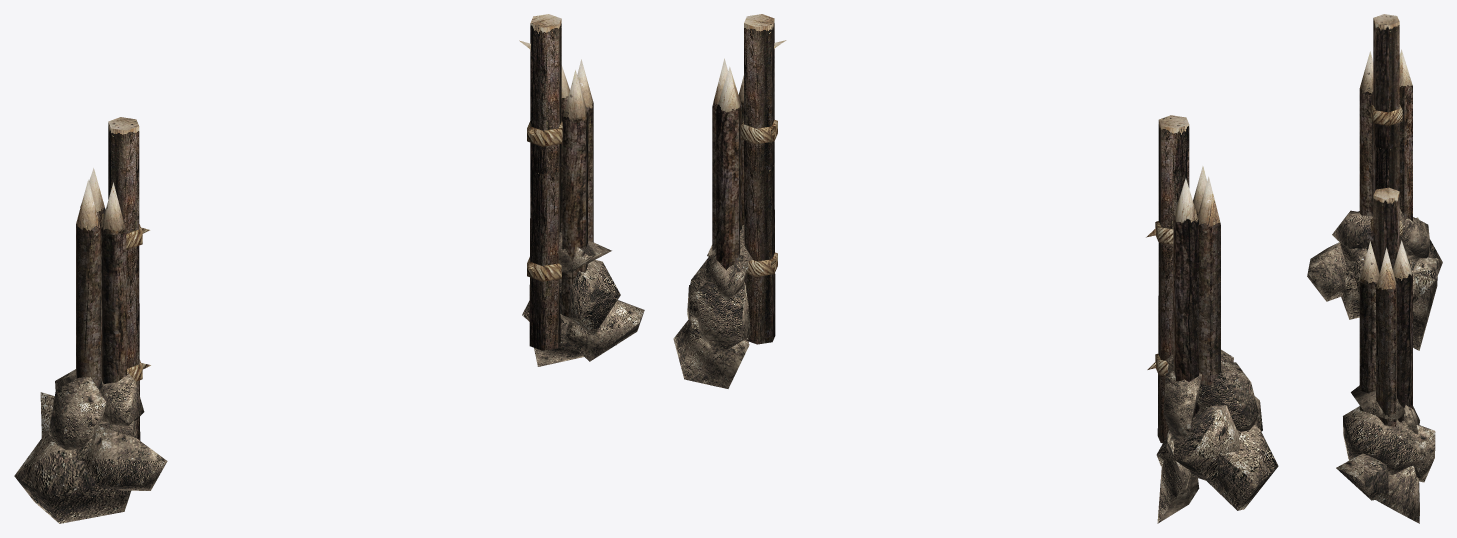
The model's file is palisade_gate_open.glb.
3 views of the same model, side by side, from view 1: azimuth 30°, elevation 25°; view 2: azimuth 150°, elevation 25°; view 3: azimuth 270°, elevation 25° (orthographic). The views are drawn at different scales.
Bounding box in the file's own units: 16.93 × 10.54 × 3.91.
Materials: 1 (1 with a texture image).
